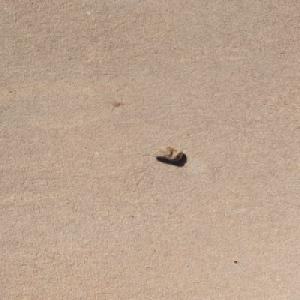Rock: (150, 145, 184, 161)
